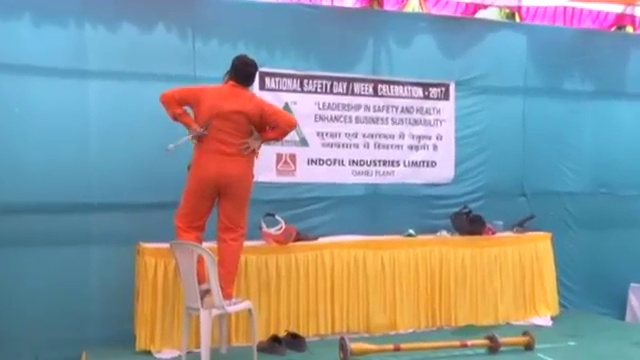helmet_off: (225, 52, 259, 88)
person: (157, 53, 296, 306)
